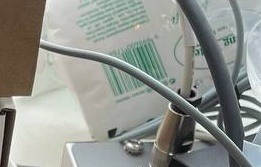1d: (98, 38, 169, 96)
